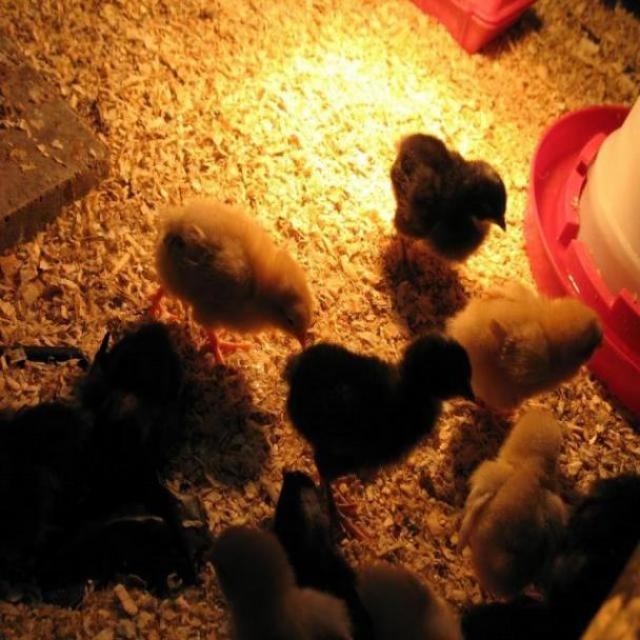Chicken: (391, 139, 516, 286)
